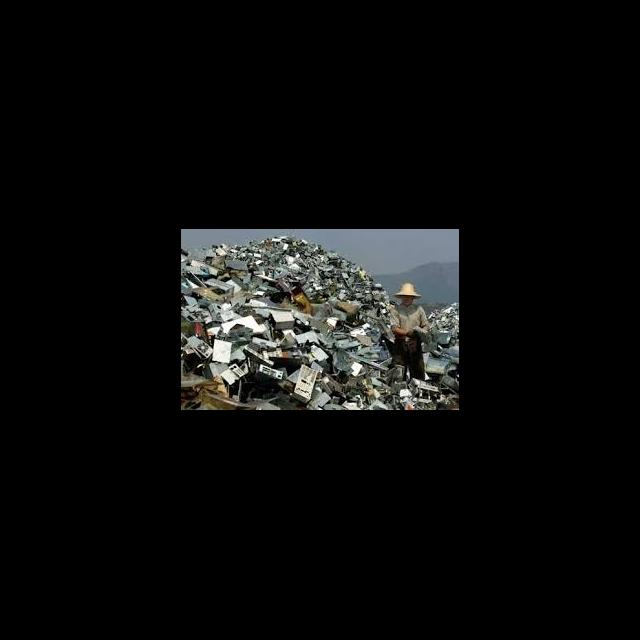metal: (285, 362, 323, 401), (263, 304, 296, 332), (250, 361, 289, 384), (205, 298, 227, 324)
